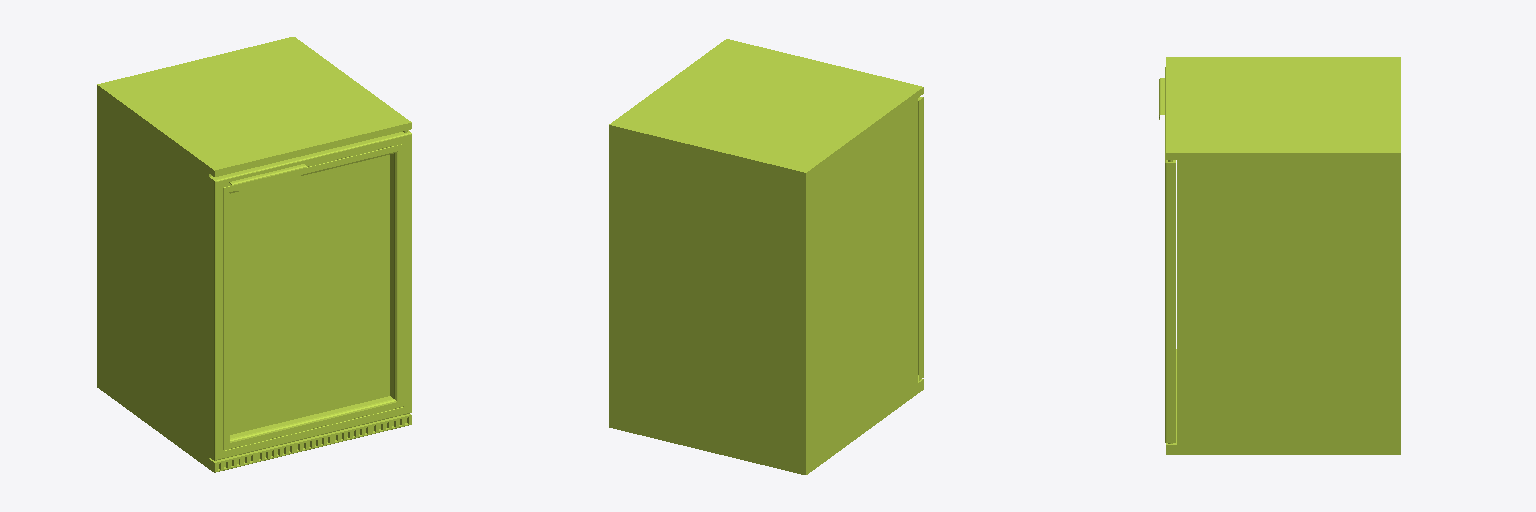
Rendered from Fridge.obj.
3 renders of one model, left to right at view 1: azimuth 30°, elevation 25°; view 2: azimuth 150°, elevation 25°; view 3: azimuth 270°, elevation 25°, orthographic.
Bounding box in the file's own units: 0.36 × 0.528 × 0.3822.